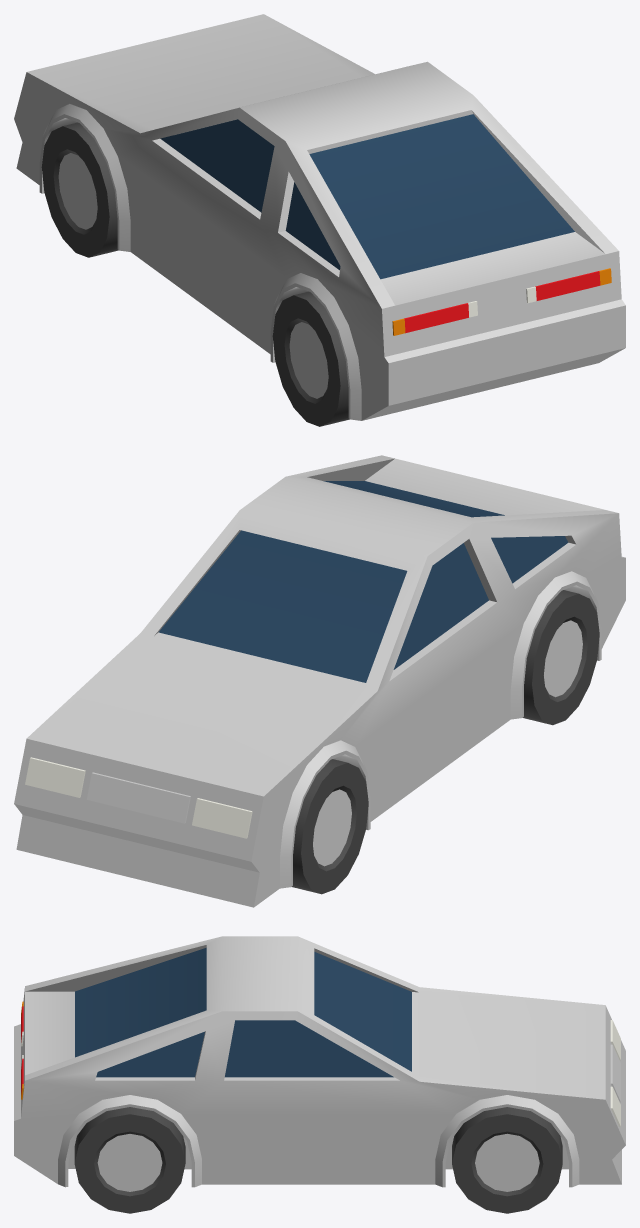
The model's file is muscle_car.glb.
3 views of the same model, one above another, from view 1: azimuth 30°, elevation 25°; view 2: azimuth 150°, elevation 25°; view 3: azimuth 270°, elevation 25° (orthographic). The views are drawn at different scales.
Parts seen in each view (by area): view 1: Muscle Car; view 2: Muscle Car; view 3: Muscle Car.
Boxes of the visible parts, x1,y1,x2,y2 form: Muscle Car: [14, 14, 625, 426]; Muscle Car: [14, 455, 625, 907]; Muscle Car: [14, 936, 625, 1213].
Bounding box in the file's own units: 1.47 × 1.25 × 3.68.
